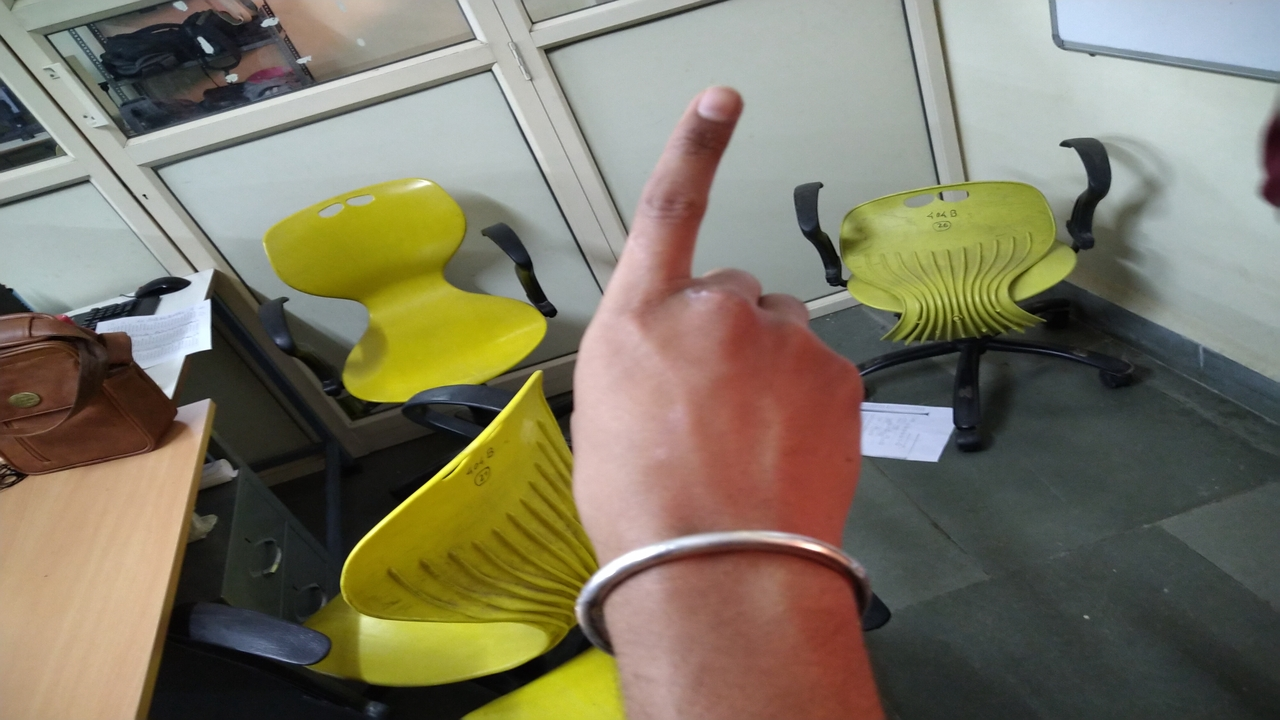fingertip: (686, 76, 748, 132)
